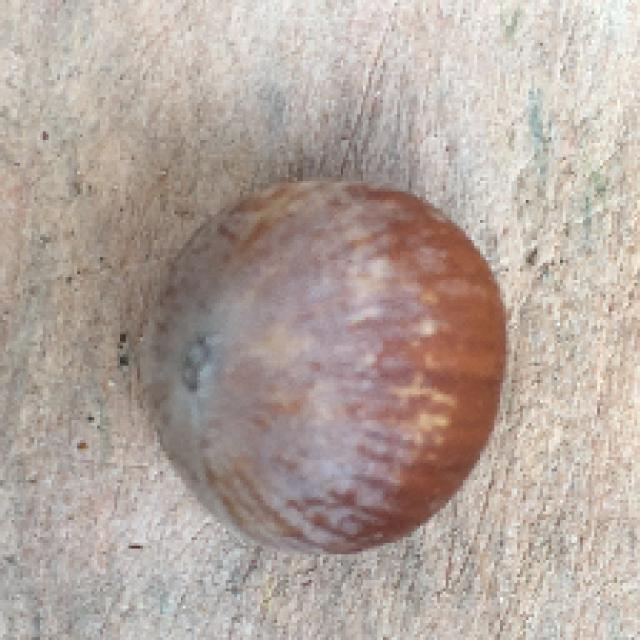qualityHazelnut: (134, 178, 507, 564)
